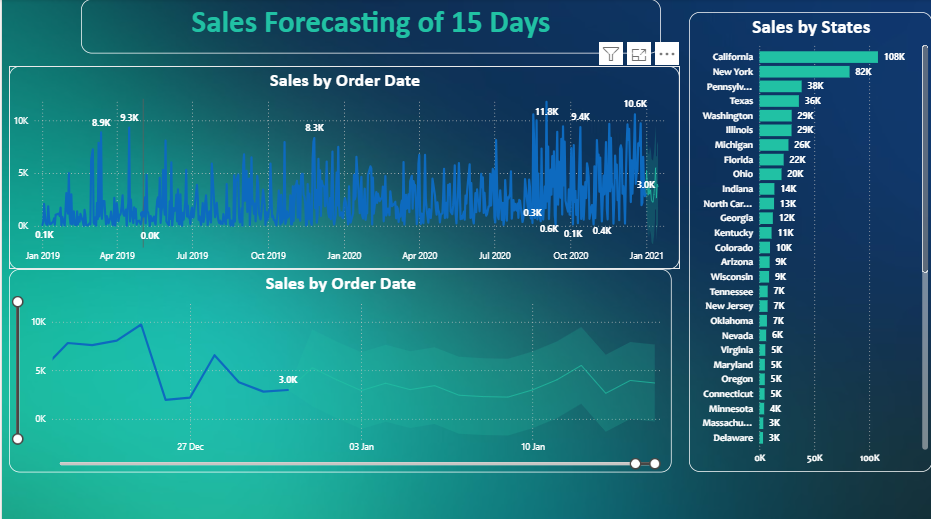

Layout of this report page (visuals, bound fields, positions):
{"tool":"powerbi","page":{"name":"Page 2","canvas":[1280,720],"ordinal":1},"visuals":[{"type":"lineChart","title":"Sales by Order Date","fields":{"Y":["Sum(SuperStore_Sales_Dataset.Sales)"],"Category":["SuperStore_Sales_Dataset.Order Date"]},"box":[10,91.7,923.3,280],"z":0},{"type":"lineChart","title":"Sales by Order Date","fields":{"Y":["Sum(SuperStore_Sales_Dataset.Sales)"],"Category":["SuperStore_Sales_Dataset.Order Date"]},"box":[10,371.7,911.7,280],"z":1},{"type":"textbox","box":[108.3,0,798.3,75],"z":2},{"type":"clusteredBarChart","title":"Sales by States","fields":{"Category":["SuperStore_Sales_Dataset.State"],"Y":["Sum(SuperStore_Sales_Dataset.Sales)"]},"box":[945,18.3,335,633.3],"z":3}]}

Visuals, with their boxes in screenshot pixels (x1, y1, x2, y2), scaled from the page's 1280x720 canvas onto the 931x519 screenshot:
"Sales by Order Date" lineChart: bbox=(7, 66, 679, 268)
"Sales by Order Date" lineChart: bbox=(7, 268, 670, 470)
textbox: bbox=(79, 0, 659, 54)
"Sales by States" clusteredBarChart: bbox=(687, 13, 930, 470)
